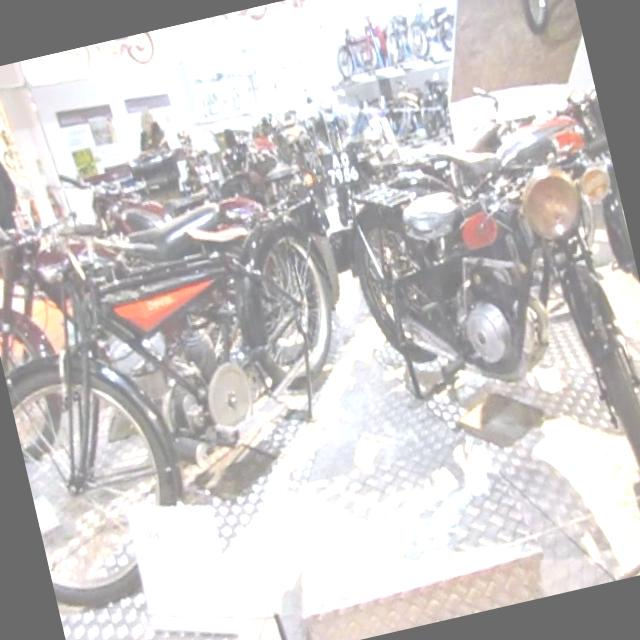Vehicle: (0, 193, 402, 618), (311, 101, 640, 565), (0, 148, 277, 462), (437, 57, 640, 338), (58, 137, 224, 249), (120, 118, 255, 218), (56, 31, 158, 84), (178, 1, 282, 51), (257, 156, 319, 212)
